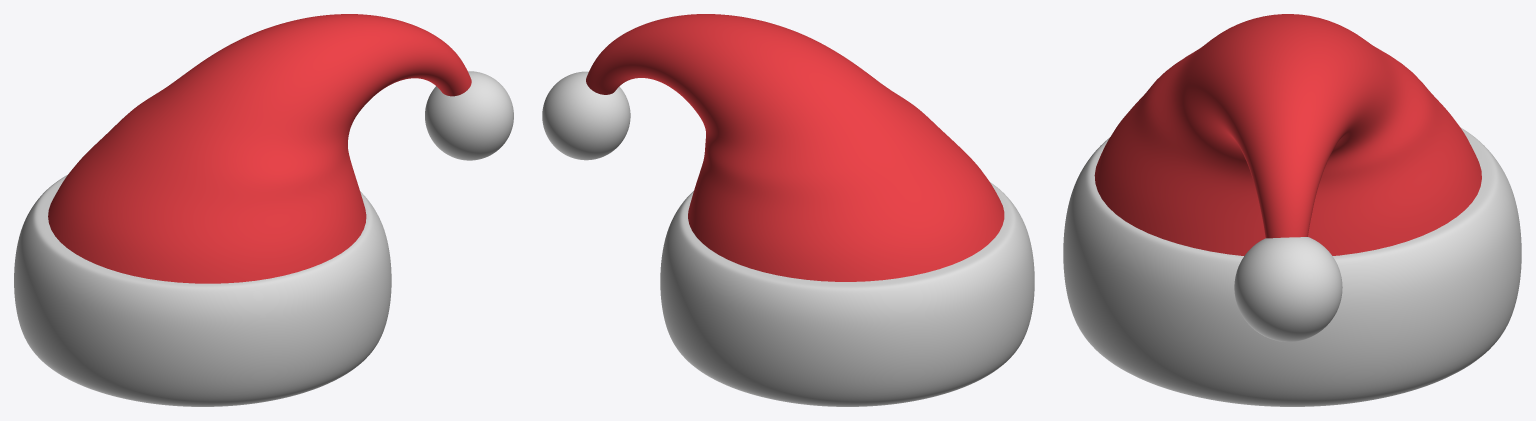
The model's file is shap.glb.
The picture shows the model from 3 angles, left to right: view 1: azimuth 30°, elevation 25°; view 2: azimuth 150°, elevation 25°; view 3: azimuth 270°, elevation 25°; orthographic projection. The views are drawn at different scales.
Visible parts, largest first — view 1: Плоскость; view 2: Плоскость; view 3: Плоскость.
Boxes of the visible parts, x1,y1,x2,y2 form: Плоскость: [14, 14, 513, 406]; Плоскость: [542, 14, 1034, 406]; Плоскость: [1063, 14, 1521, 406].
Size of the model in its own units: 3.45 by 2.04 by 2.41.
